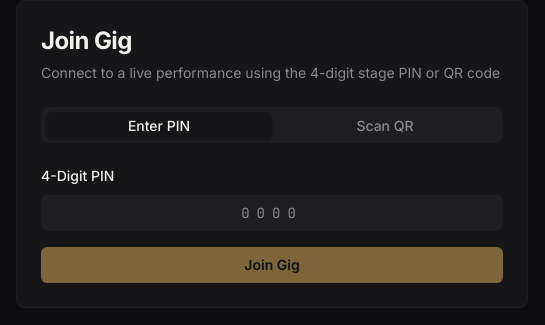
Test case: JoinGigForm › formats pin input to allow only 4 digits and enables submit button when complete
Type "abc12345" into the field labelled "4-Digit PIN" at {"x": 272, "y": 213}, box [41, 195, 503, 231]
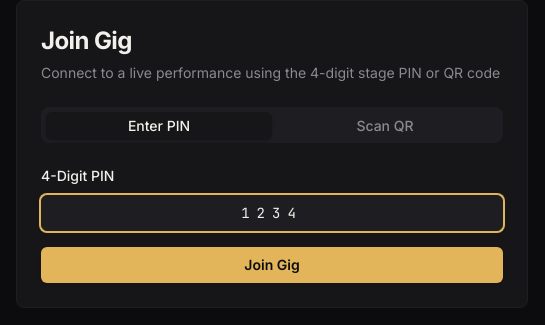
Expected: the field labelled "4-Digit PIN" holds "1234", [41, 195, 503, 231]
Expected: the button "Join Gig" is enabled, [41, 247, 503, 283]
